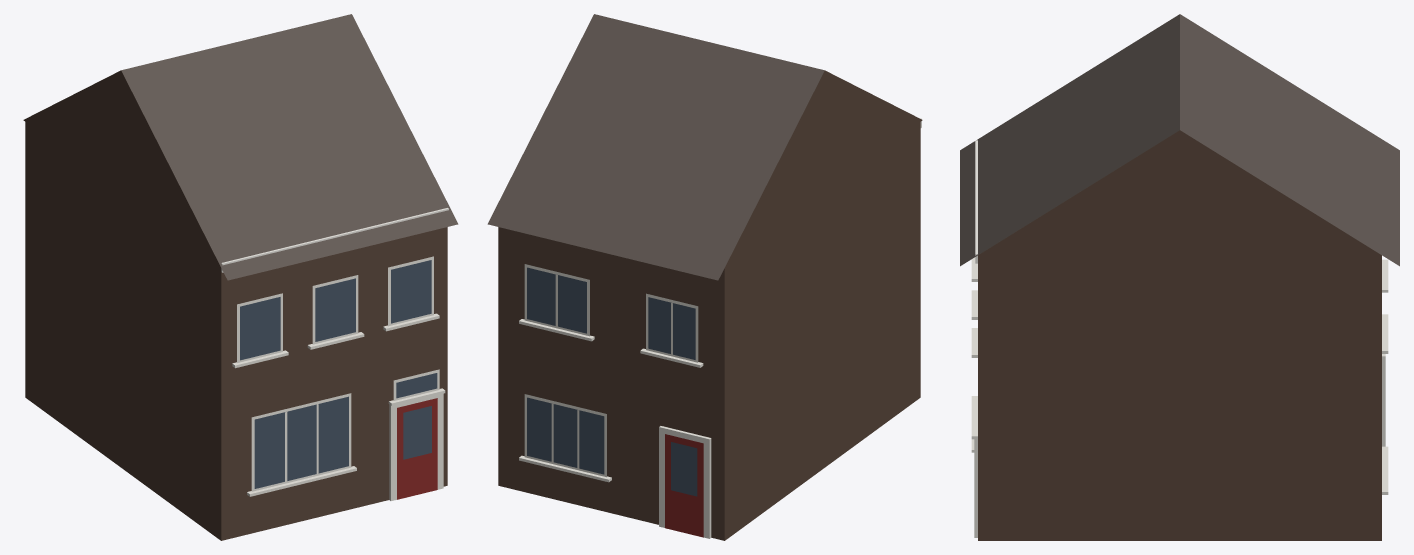
The model's file is nd-to-row__triple__2__gable__long__solid__f0d0__mirror.glb.
The picture shows the model from 3 angles, left to right: view 1: azimuth 30°, elevation 25°; view 2: azimuth 150°, elevation 25°; view 3: azimuth 270°, elevation 25°; orthographic projection. The views are drawn at different scales.
Visible parts, largest first — view 1: nd-to-row__triple__2__gable__long__solid__f0d0__mirror; view 2: nd-to-row__triple__2__gable__long__solid__f0d0__mirror; view 3: nd-to-row__triple__2__gable__long__solid__f0d0__mirror.
Boxes of the visible parts, box(x1,y1,x2,y2) form: nd-to-row__triple__2__gable__long__solid__f0d0__mirror: box(23, 14, 458, 540); nd-to-row__triple__2__gable__long__solid__f0d0__mirror: box(487, 14, 922, 540); nd-to-row__triple__2__gable__long__solid__f0d0__mirror: box(960, 14, 1399, 540).
Bounding box in the file's own units: 5.38 × 8.9 × 8.62.
